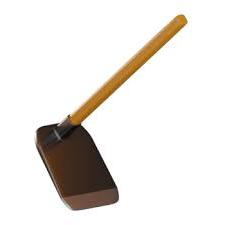HOUE: (0, 4, 190, 225)
